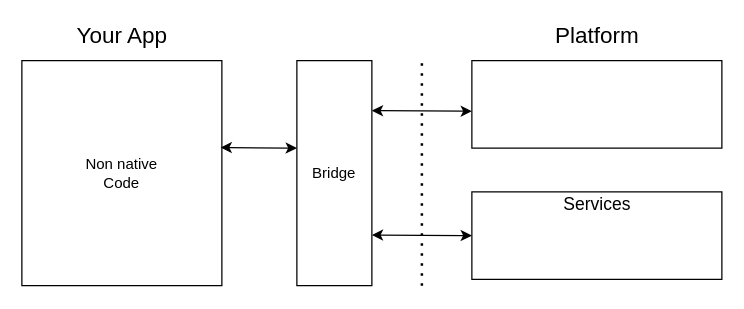
Image size: 744x309. Some labels were removed from this diagram. Here are the shapes that lost their labels. From the top down, the box of each, then its label:
(471, 59, 722, 148): OEM Widgets
(471, 191, 722, 279): Location, Audio, GPS, etc.
